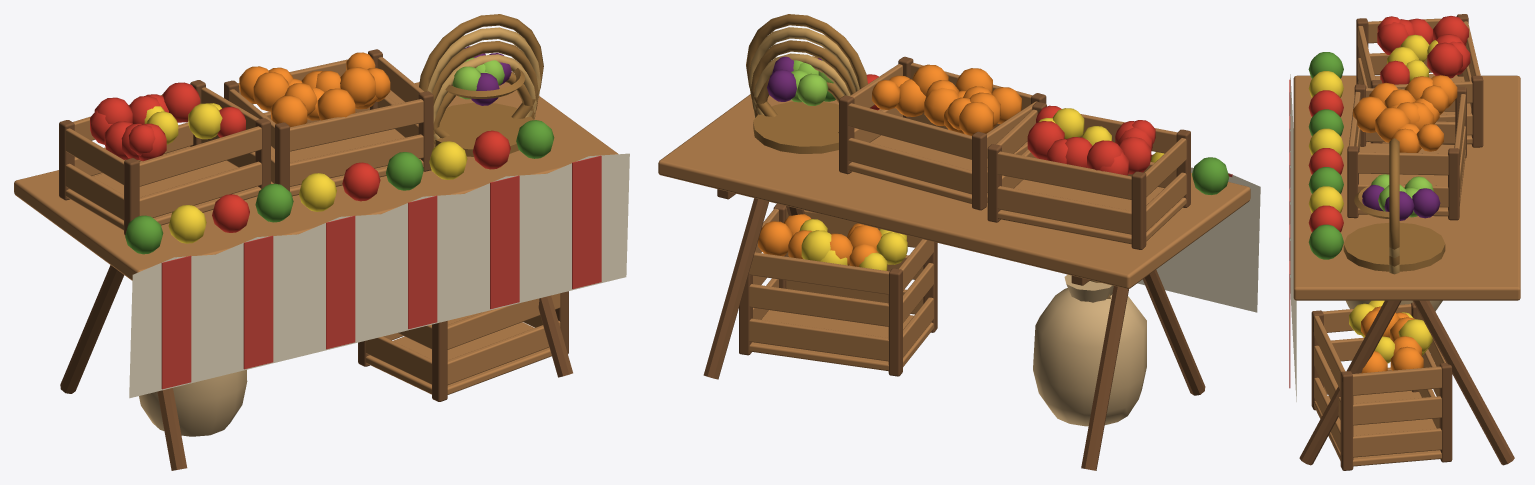
The model's file is mk_produce_table.glb.
3 views of the same model, side by side, from view 1: azimuth 30°, elevation 25°; view 2: azimuth 150°, elevation 25°; view 3: azimuth 270°, elevation 25° (orthographic). The views are drawn at different scales.
Visible parts, largest first — view 1: mk_produce_table_body; view 2: mk_produce_table_body; view 3: mk_produce_table_body.
Part boxes in pixels (x1,y1,x2,y2): mk_produce_table_body: [14, 14, 629, 470]; mk_produce_table_body: [658, 14, 1260, 470]; mk_produce_table_body: [1289, 14, 1520, 470].
Size of the model in its own units: 2.06 by 1.33 by 0.917.
